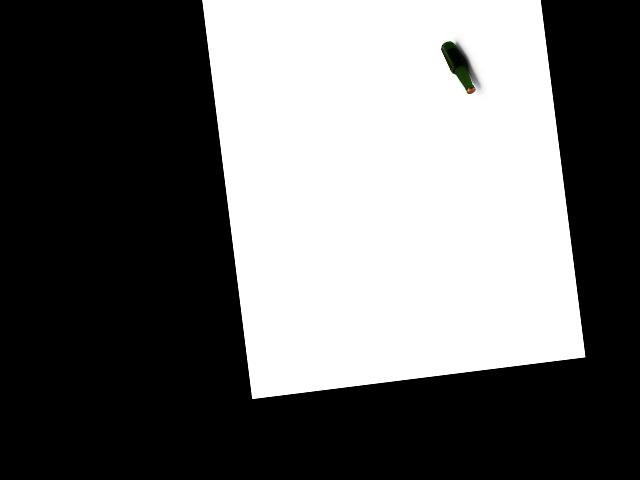beer: (440, 38, 476, 96)
